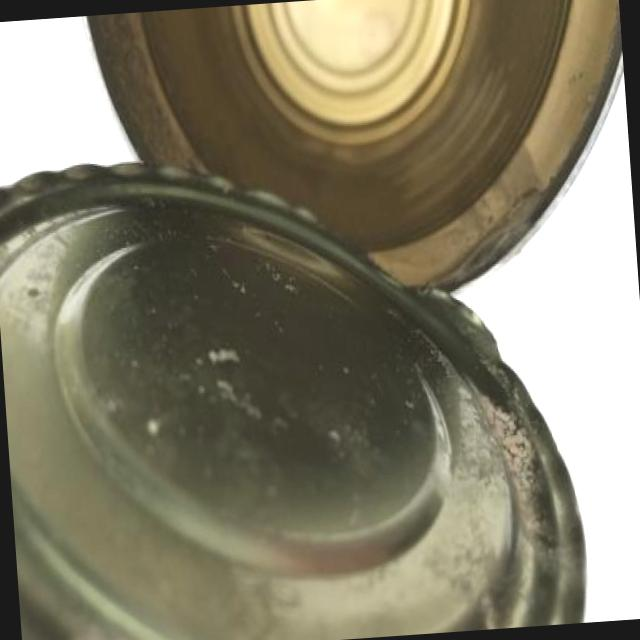kim_loai: (0, 165, 586, 640), (87, 0, 623, 288)
